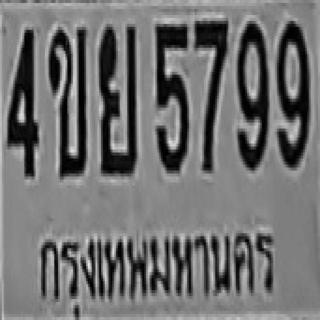A02: (46, 26, 85, 175)
A34: (96, 21, 136, 174)
N04: (5, 26, 36, 175)
N05: (153, 21, 187, 170)
N07: (193, 18, 226, 170), (193, 18, 226, 129)
N09: (274, 17, 308, 166), (236, 18, 268, 168)
P04: (32, 220, 277, 317)
